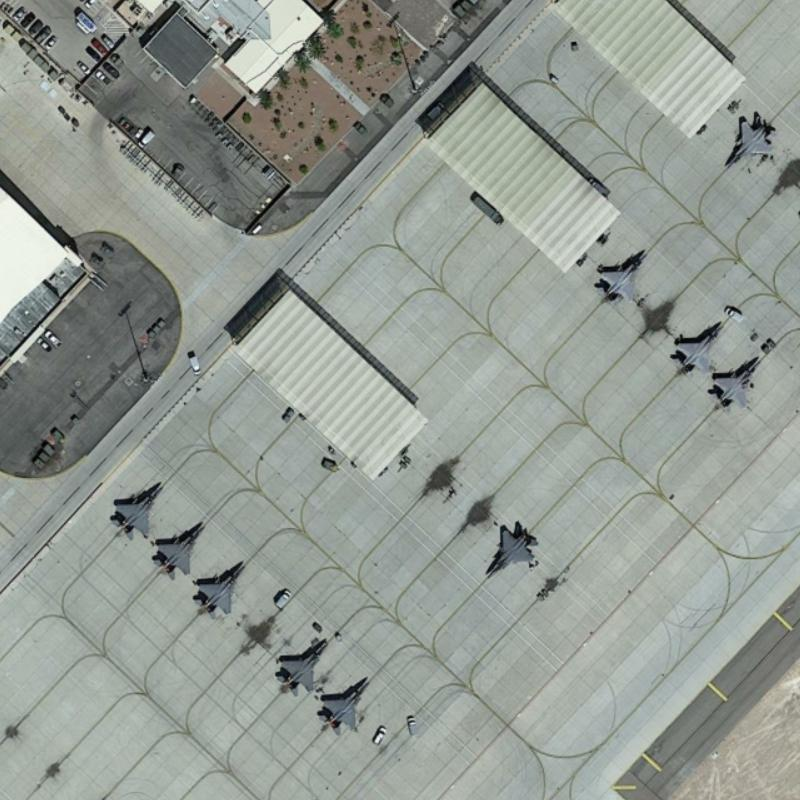A13: (190, 560, 248, 619), (271, 639, 329, 696), (107, 483, 164, 541), (150, 523, 207, 580), (315, 677, 369, 737), (593, 248, 650, 304), (483, 523, 538, 581), (721, 115, 778, 169), (708, 357, 762, 413), (669, 322, 724, 375)
